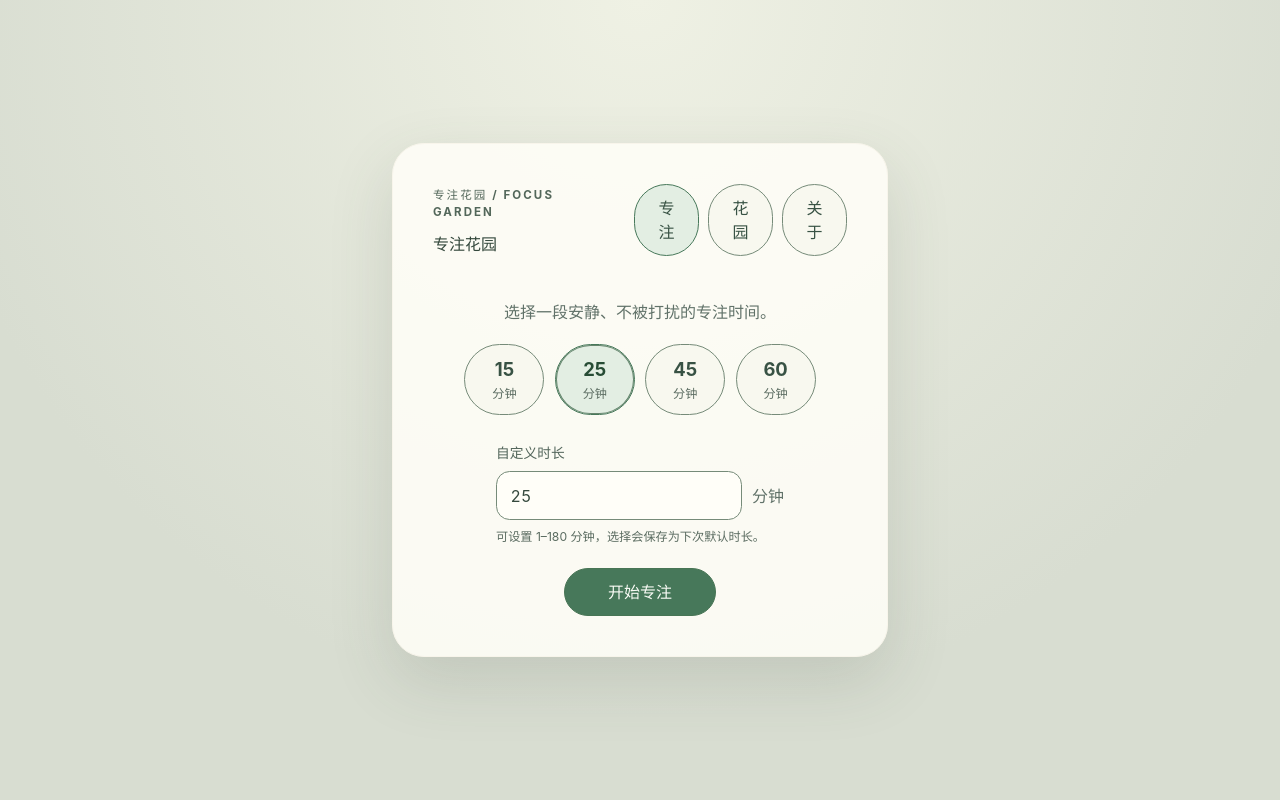
Scenario: App › opens an accessible Chinese About dialog and restores focus after Escape
The image size is (1280, 800).
Click the button "关于". click: (814,220)
box: left=782, top=184, right=847, bottom=256
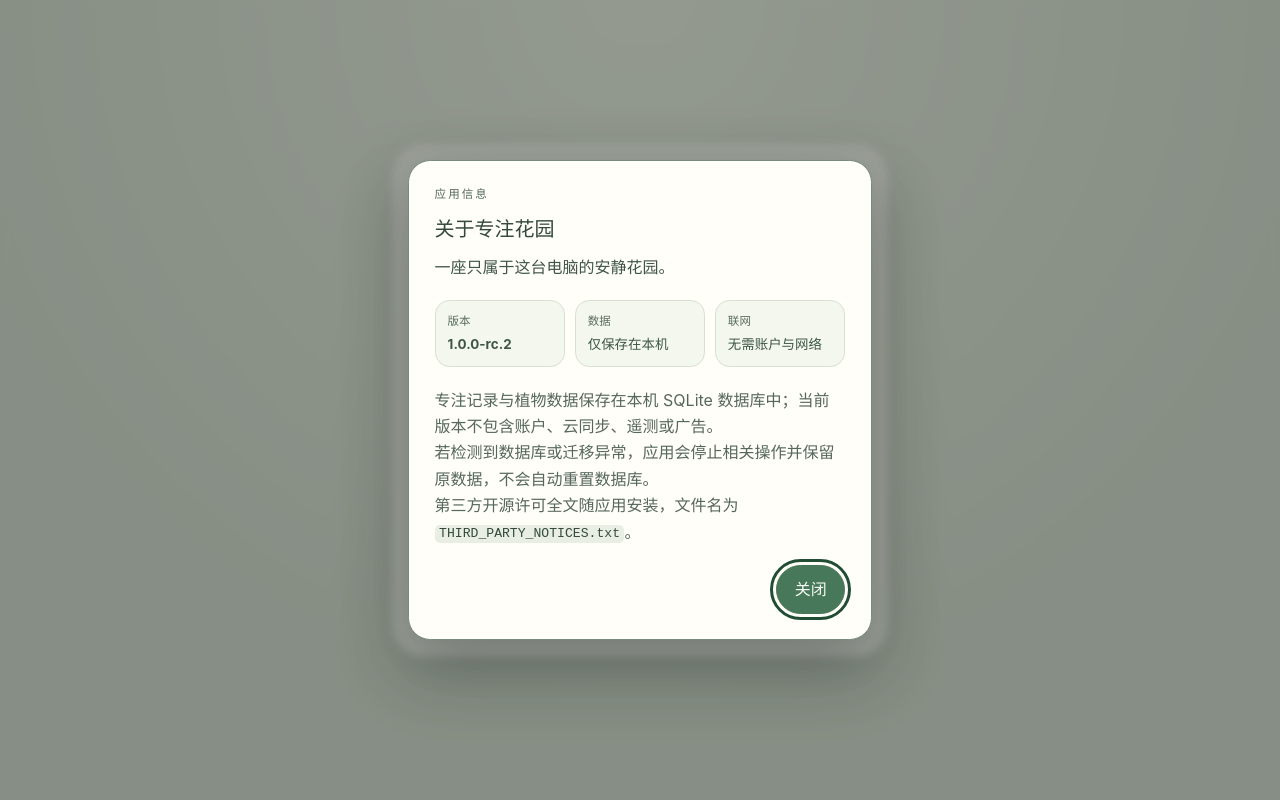
Check: the text "1.0.0-rc.2" is shown, box left=448, top=336, right=512, bottom=352
Check: the text "专注记录与植物数据保存在本机 SQLite 数据库中；当前版本不包含账户、云同步、遥测或广告。" is shown, box left=435, top=387, right=845, bottom=439
Check: the text "THIRD_PARTY_NOTICES.txt" is shown, box left=435, top=525, right=624, bottom=543
Press Tab in the dialog "关于专注花园", box left=408, top=160, right=872, bottom=640
Press Tab in the dialog "关于专注花园", box left=408, top=160, right=872, bottom=640
Press Escape in the dialog "关于专注花园", box left=408, top=160, right=872, bottom=640
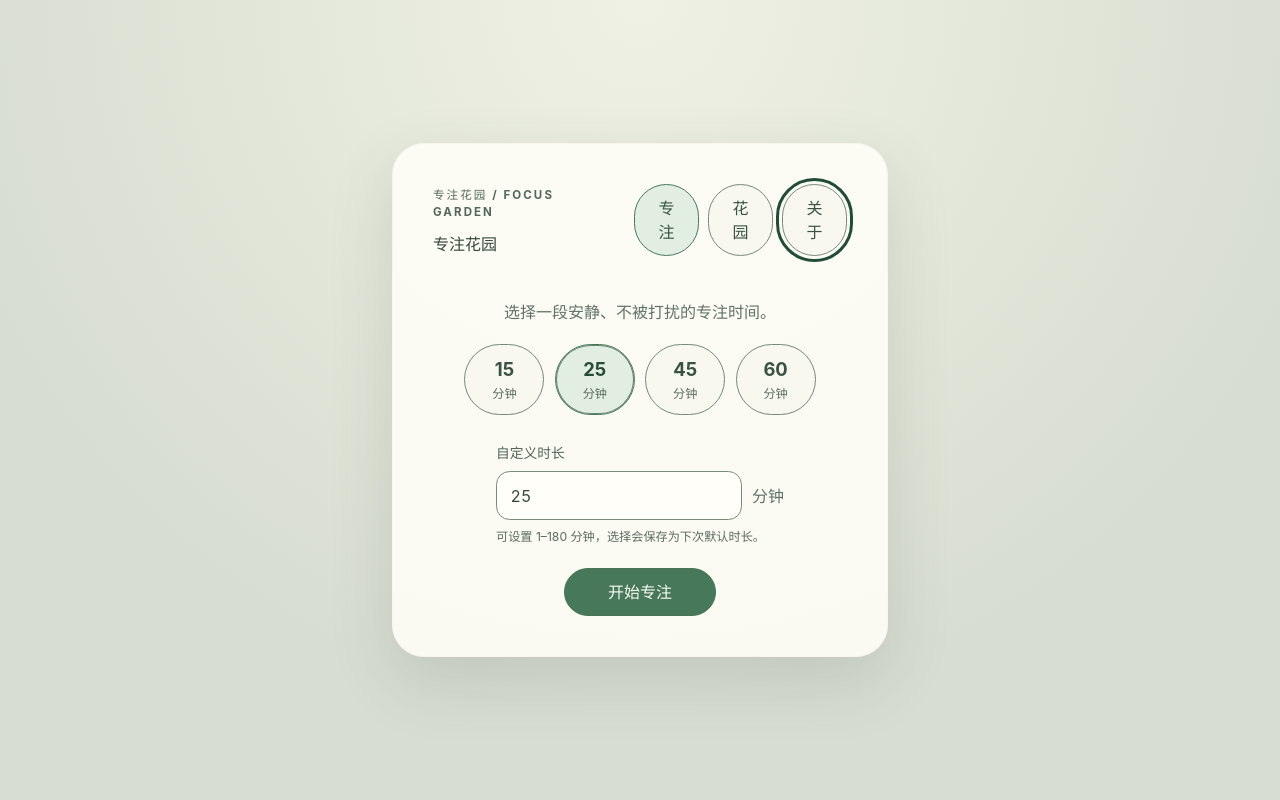
Check: the heading "关于专注花园" is gone
